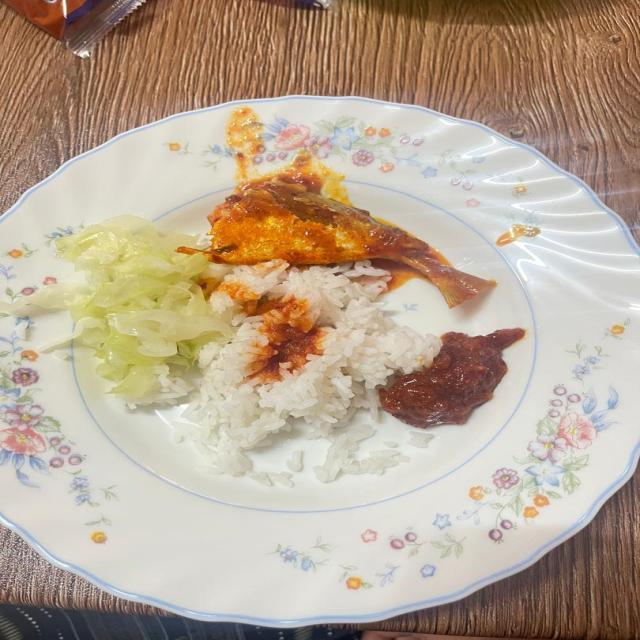Fish: (209, 175, 484, 308)
Plate: (0, 106, 639, 619), (0, 123, 239, 300)
Rice: (135, 256, 446, 477)
Vegetables: (6, 218, 234, 397)
